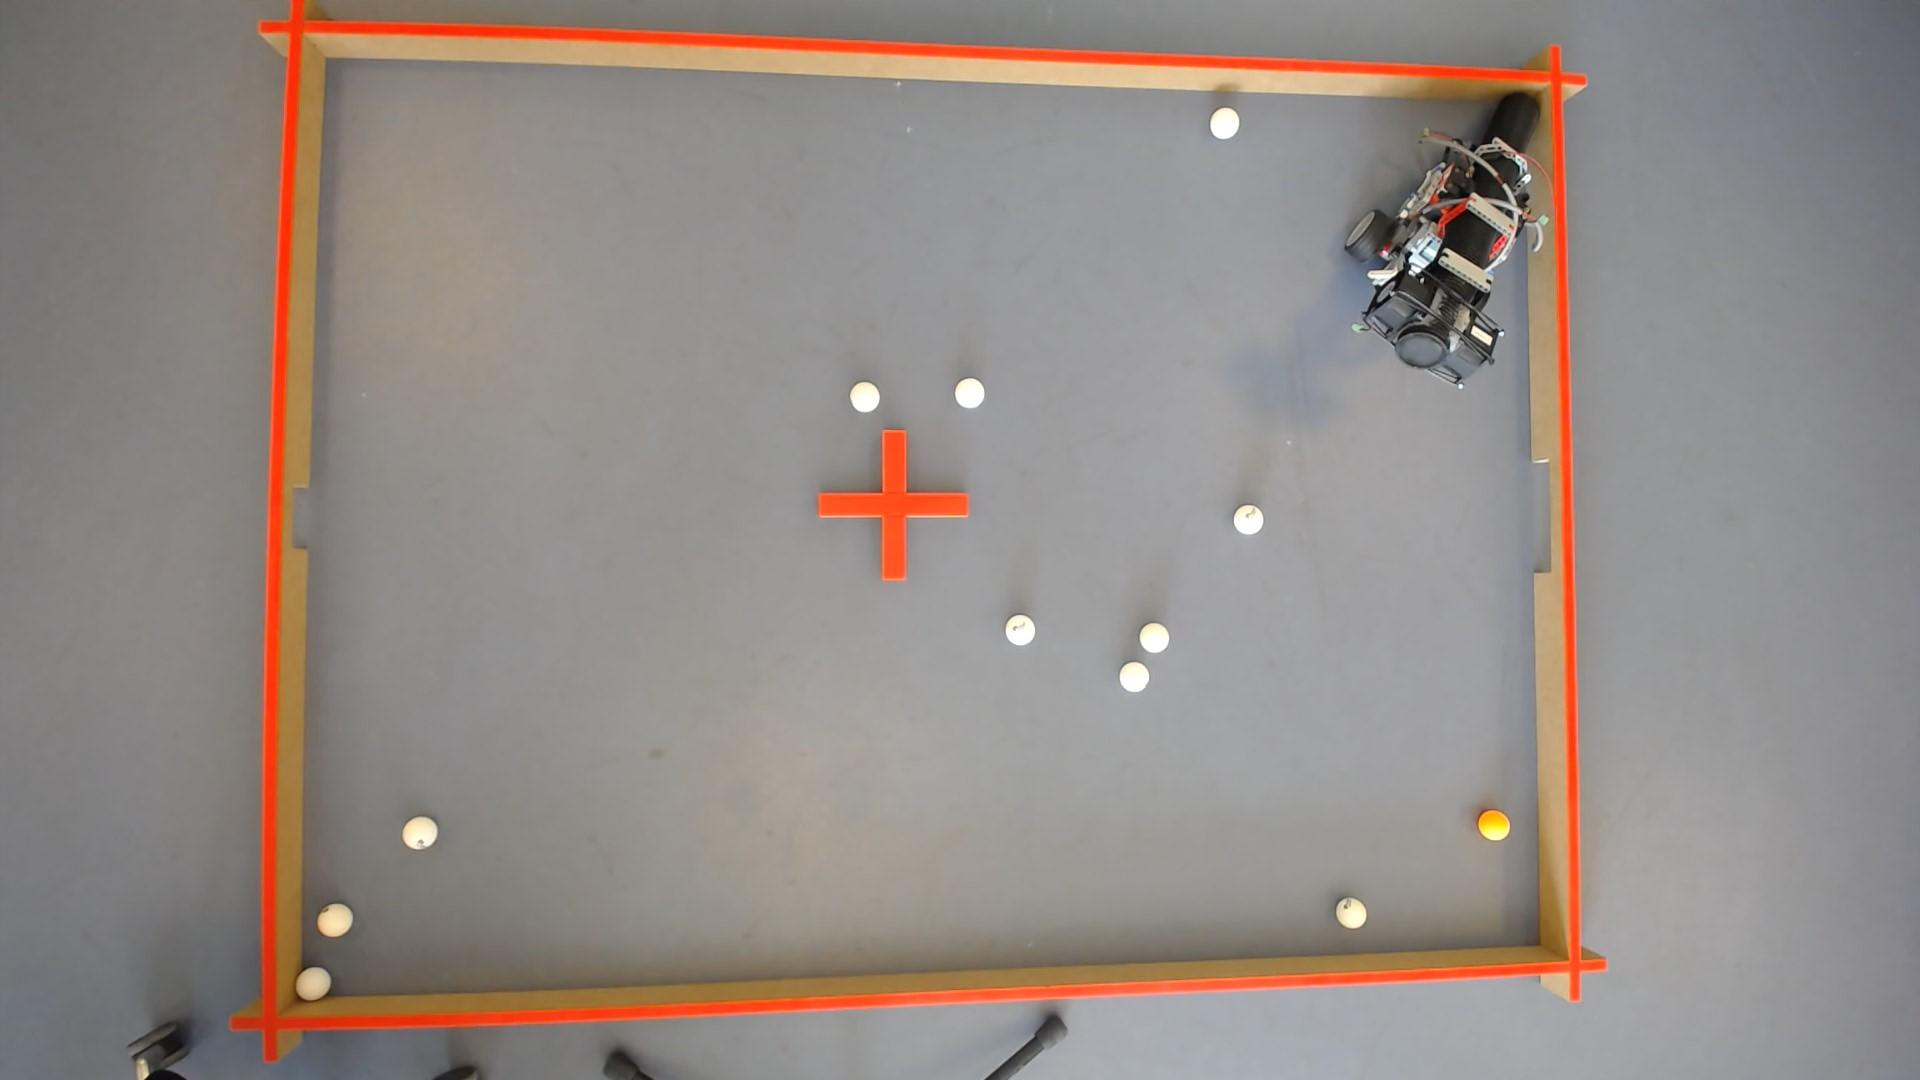orange: (1480, 810, 1513, 841)
robot: (1346, 90, 1549, 385)
white: (314, 903, 352, 939), (293, 967, 328, 1002), (400, 816, 436, 849), (1211, 104, 1241, 137), (1236, 502, 1266, 534), (1141, 621, 1171, 653), (1338, 898, 1369, 930), (1006, 615, 1036, 645), (956, 376, 985, 406), (851, 380, 880, 410), (1121, 662, 1150, 691)
